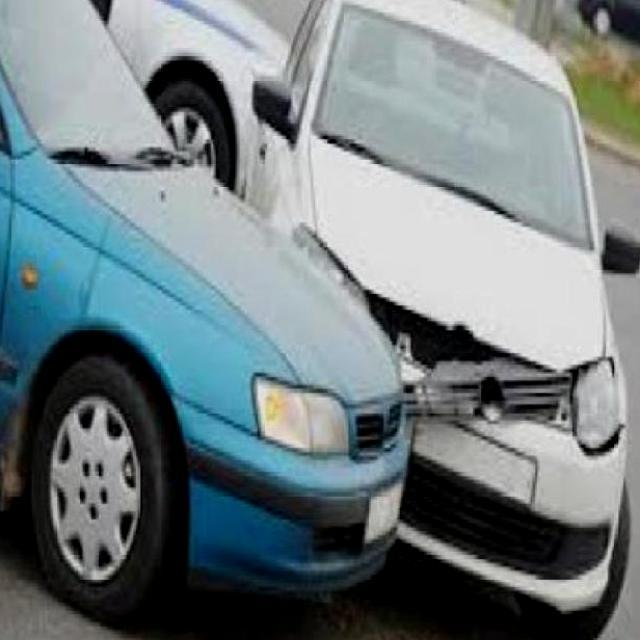accident: (0, 4, 636, 640)
